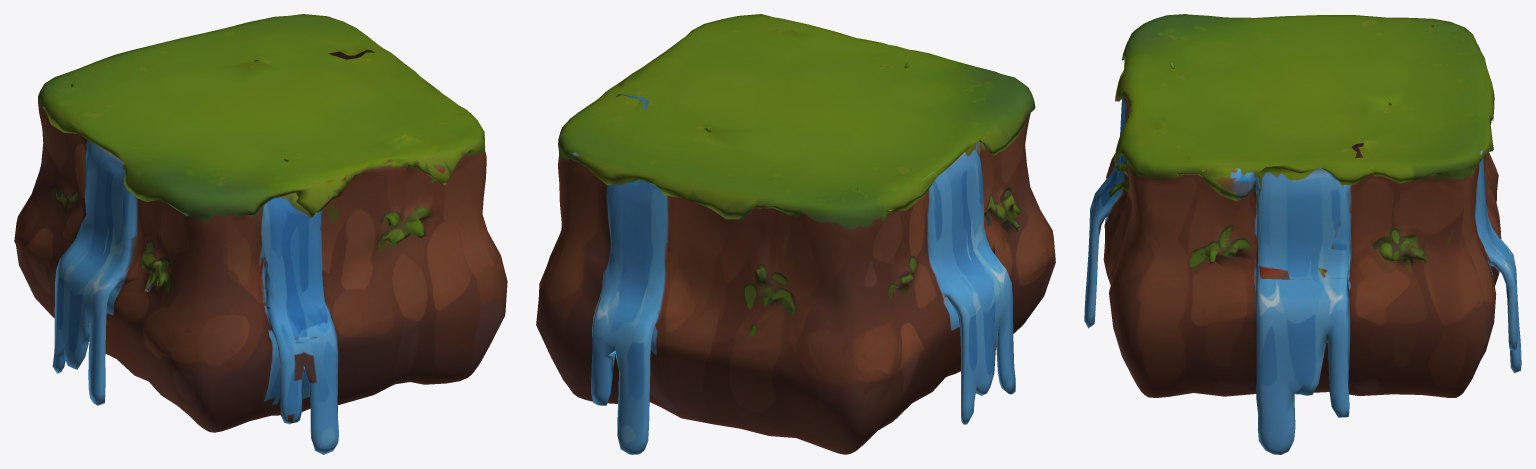
The model's file is tripo_convert_ea28ea3b-6f15-42de-a771-361813b9b5c7.obj.
3 views of the same model, side by side, from view 1: azimuth 30°, elevation 25°; view 2: azimuth 150°, elevation 25°; view 3: azimuth 270°, elevation 25° (orthographic). The views are drawn at different scales.
Parts seen in each view (by area): view 1: tripo_node_ea28ea3b-6f15-42de-a771-361813b9b5c7; view 2: tripo_node_ea28ea3b-6f15-42de-a771-361813b9b5c7; view 3: tripo_node_ea28ea3b-6f15-42de-a771-361813b9b5c7.
Part boxes in pixels (bbox=[...]): tripo_node_ea28ea3b-6f15-42de-a771-361813b9b5c7: bbox=[14, 14, 507, 454]; tripo_node_ea28ea3b-6f15-42de-a771-361813b9b5c7: bbox=[536, 14, 1055, 454]; tripo_node_ea28ea3b-6f15-42de-a771-361813b9b5c7: bbox=[1084, 14, 1521, 454].
Bounding box in the file's own units: 0.9981 × 0.7105 × 0.9995.
1 material, 1 textured.
